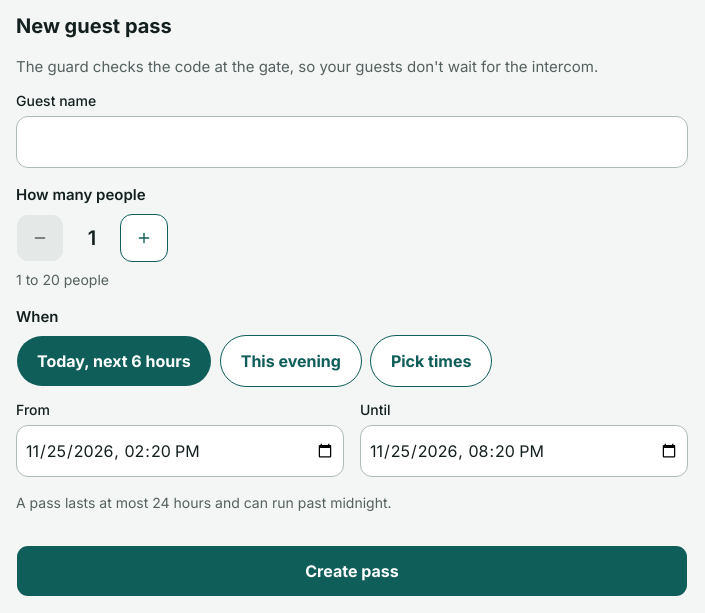
NewGuestPassForm › fills in 6 pm to 11 pm for "This evening"
Click the button "This evening" at (291, 361), box [220, 335, 362, 387]
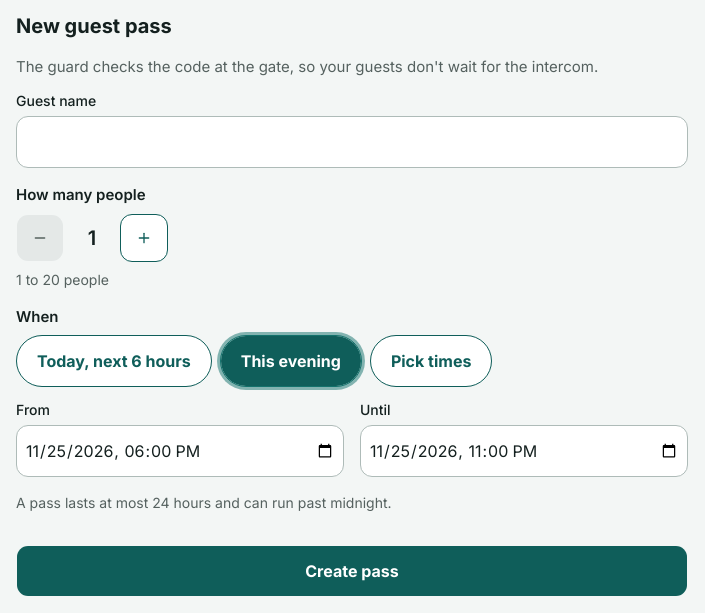
Check: the field labelled "From" holds "2026-11-25T18:00", box [16, 425, 344, 477]
Check: the field labelled "Until" holds "2026-11-25T23:00", box [360, 425, 688, 477]
